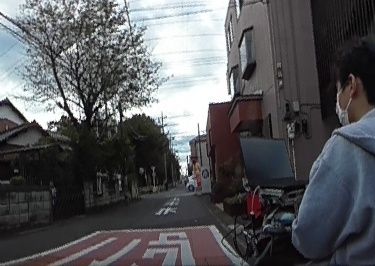person: (312, 38, 375, 260)
